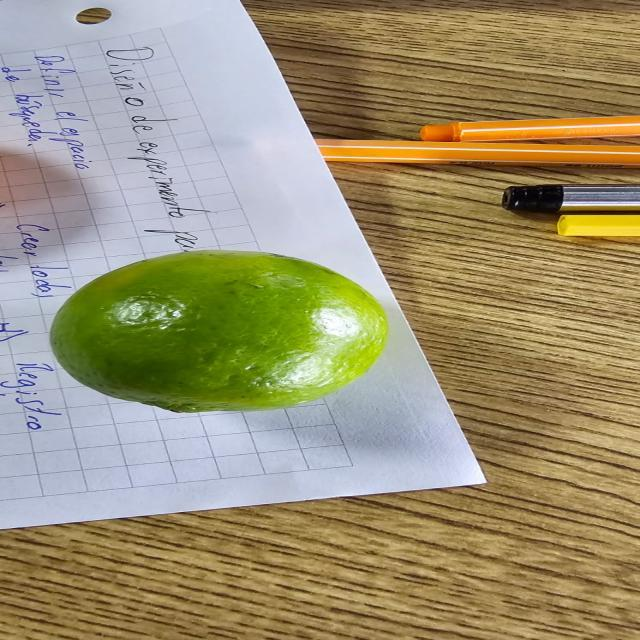Lemon: (41, 248, 412, 417)
